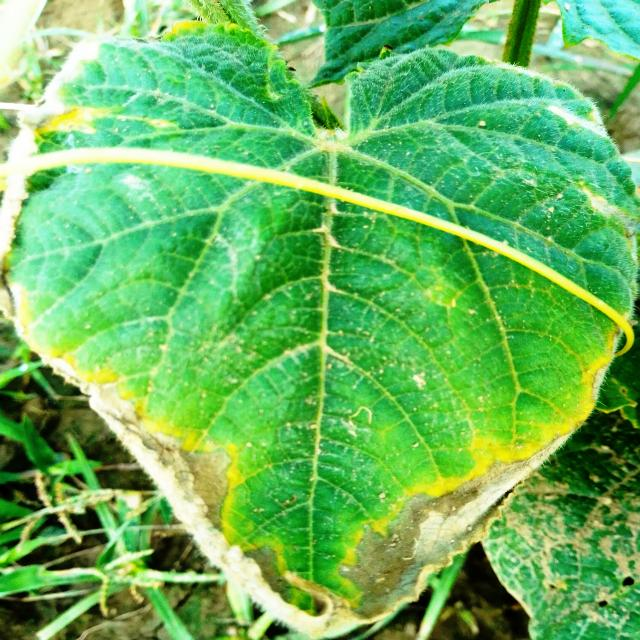Gummy-Stem-Blight: (26, 348, 597, 637), (0, 35, 101, 342)
